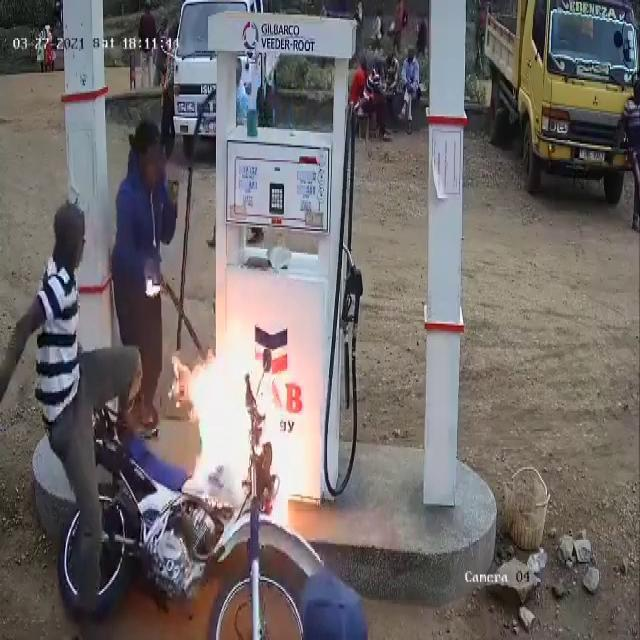Fire: (181, 276, 262, 512)
